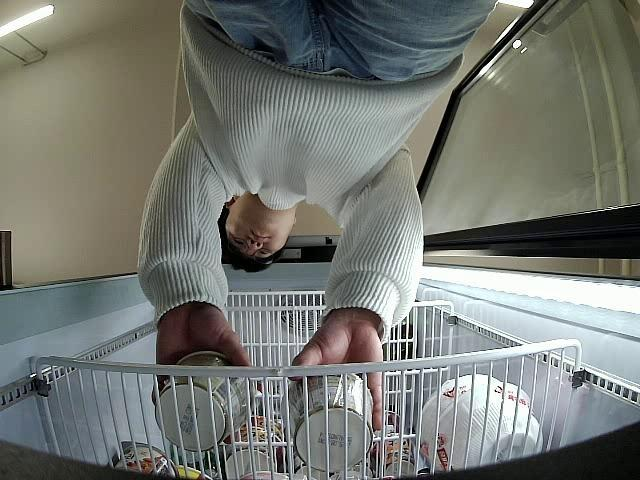04_chapagetti_S: (155, 350, 252, 453), (278, 370, 376, 469)
